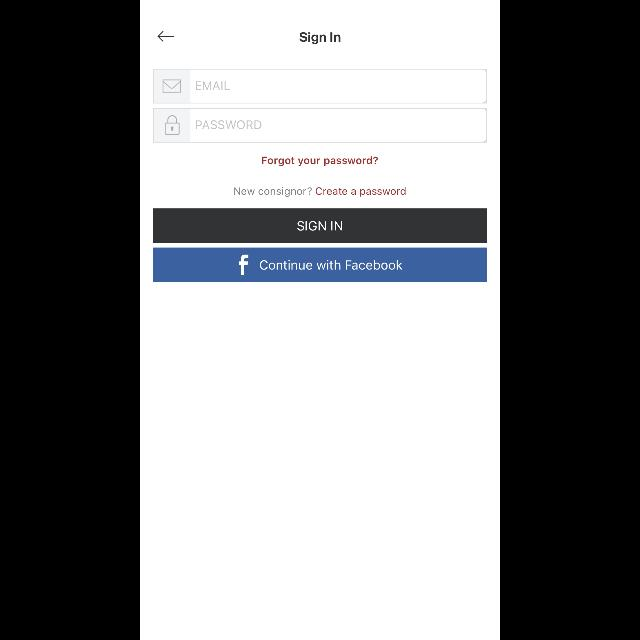icon: (164, 115, 180, 135), (163, 80, 181, 92), (158, 31, 174, 41)
input: (154, 108, 486, 142), (154, 69, 486, 103)
text: (262, 157, 378, 166), (234, 187, 312, 197), (316, 188, 406, 196), (196, 120, 262, 130), (300, 32, 340, 44), (196, 82, 230, 90)
textbutton: (154, 248, 486, 282), (154, 209, 486, 243)
